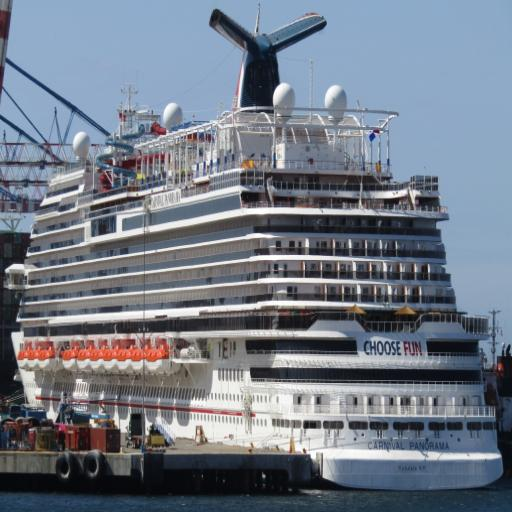cruises: (4, 6, 508, 499)
